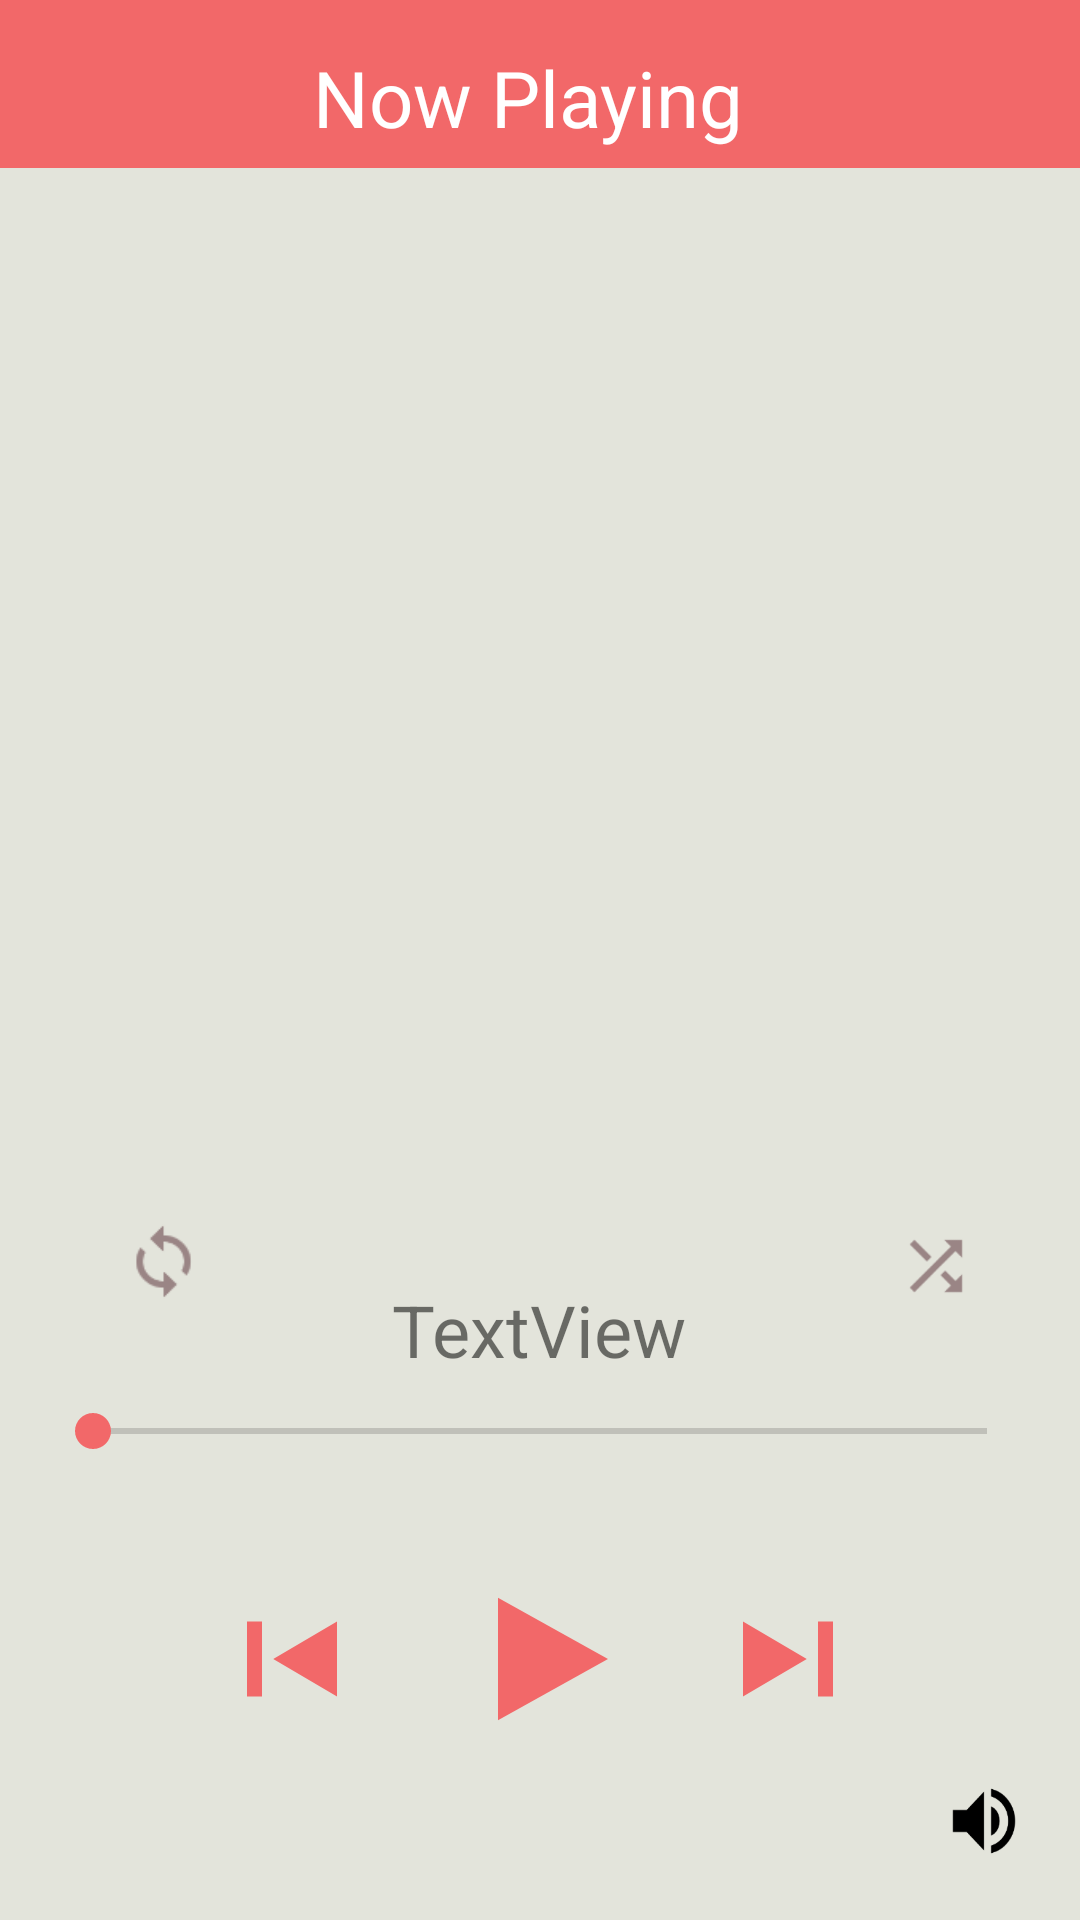

Icon bounding boxes for this 1080x1920 phone screenshot, format (x1, y1, x2, y2):
play arrow: (498, 1598, 608, 1720)
skip next: (743, 1621, 833, 1697)
skip previous: (247, 1621, 337, 1697)
